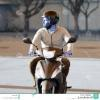motorcycles: (30, 45, 70, 94)
